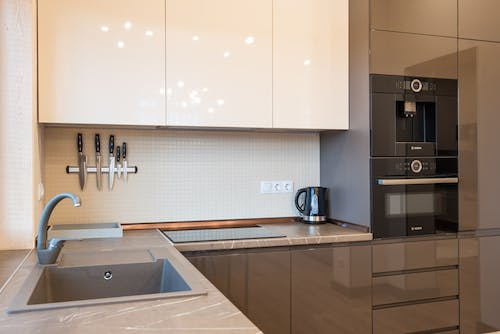knife: (77, 131, 87, 192), (107, 132, 117, 193), (93, 132, 103, 192), (121, 139, 128, 185), (115, 145, 122, 179)
